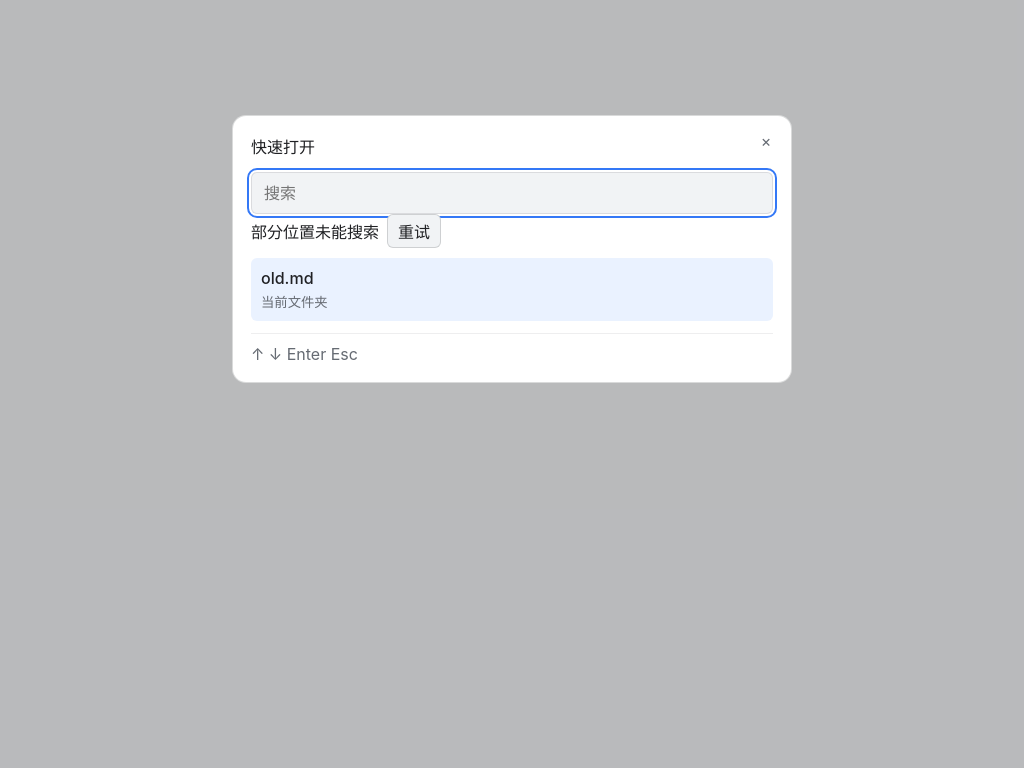
Test: replaces partial-scan candidates on retry instead of keeping removed paths
Expected: the text "部分位置未能搜索" is shown, [251, 222, 379, 242]
Click the button "重试" at coordinates (414, 231), box [387, 214, 441, 248]
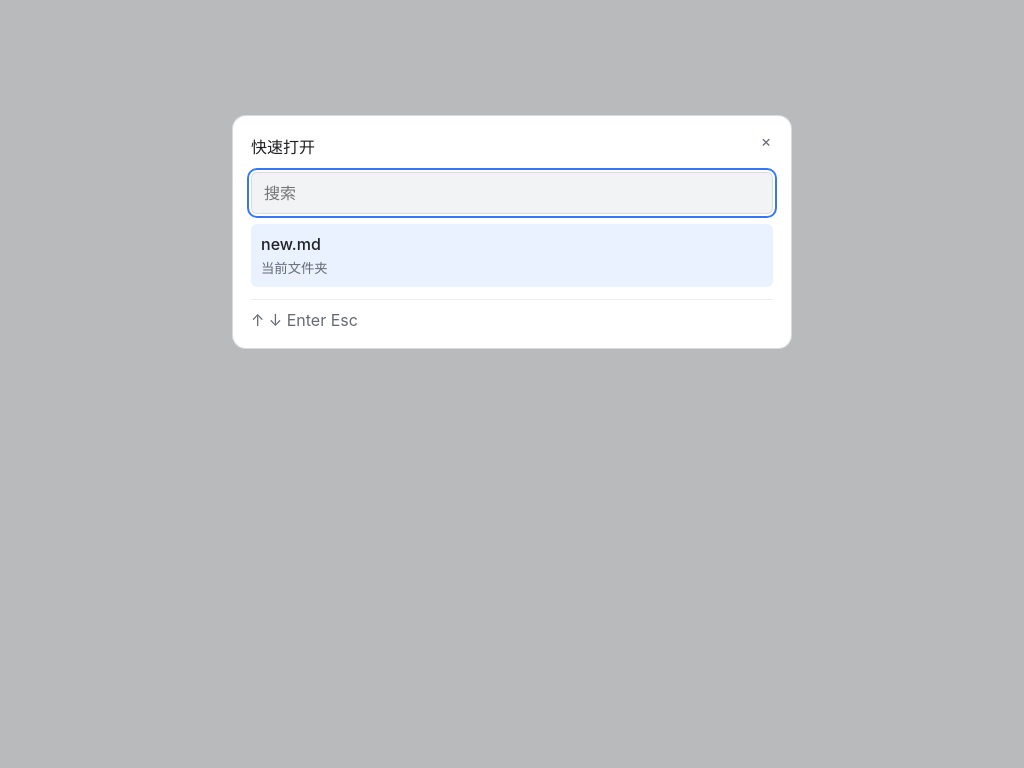
Now the option "new.md 当前文件夹" is shown, box [251, 224, 773, 287]
Now the option "old.md" is gone
Now the text "部分位置未能搜索" is gone
